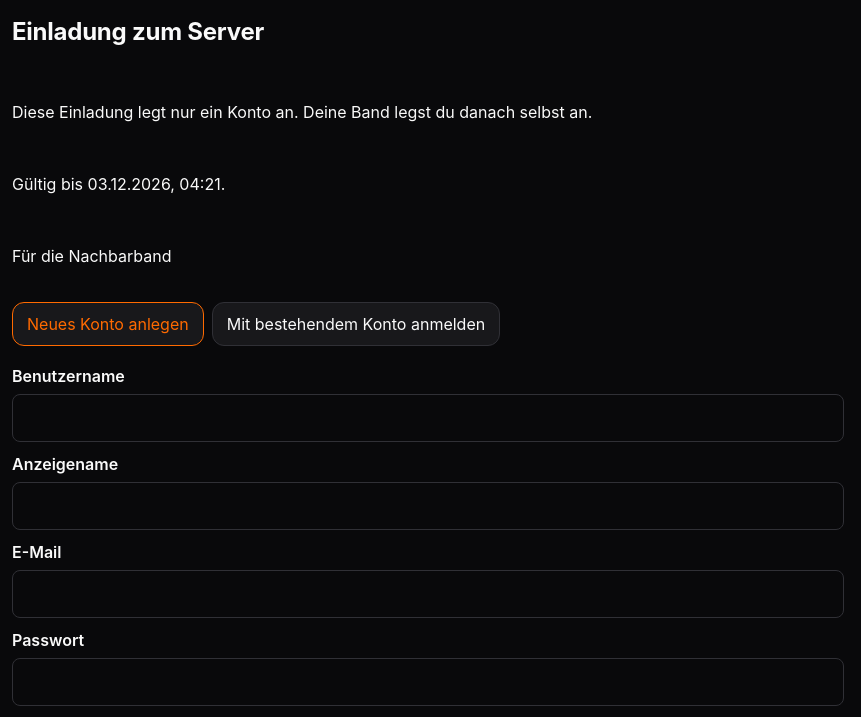
Test: BeitrittAnsicht › zeigt abweichende Passwörter ohne Aufruf
Expected: the heading "Einladung zum Server" is shown, [12,17,264,46]
Type "neu" into the field labelled "Benutzername" at (428, 418), box [12,394,844,442]
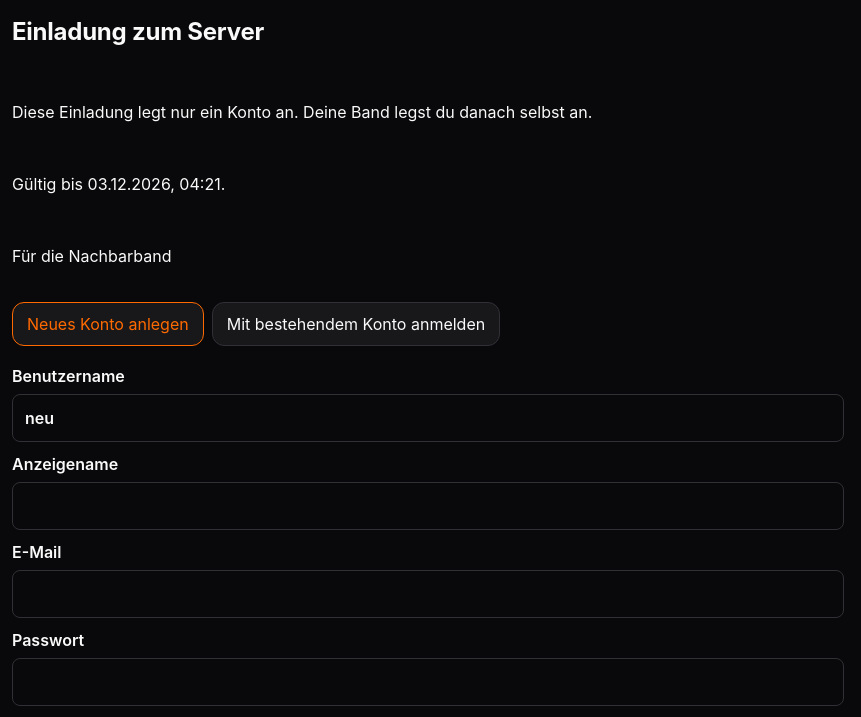
Type "neu@example.test" into the field labelled "E-Mail" at (428, 594), box [12,570,844,618]
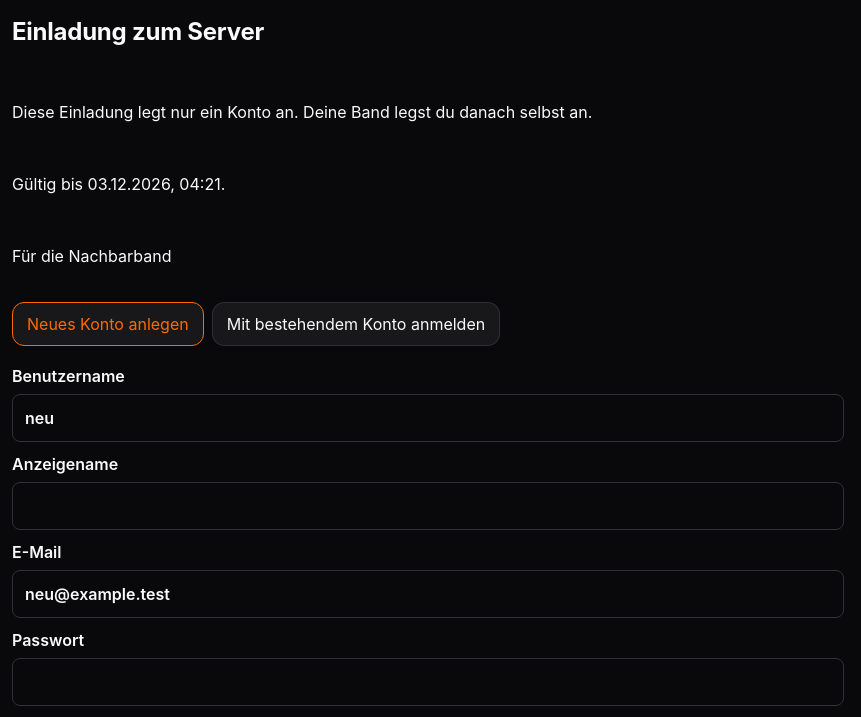
Type "eins-123456" into the password field labelled "Passwort" at (428, 682), box [12,658,844,706]
(page scrolled)
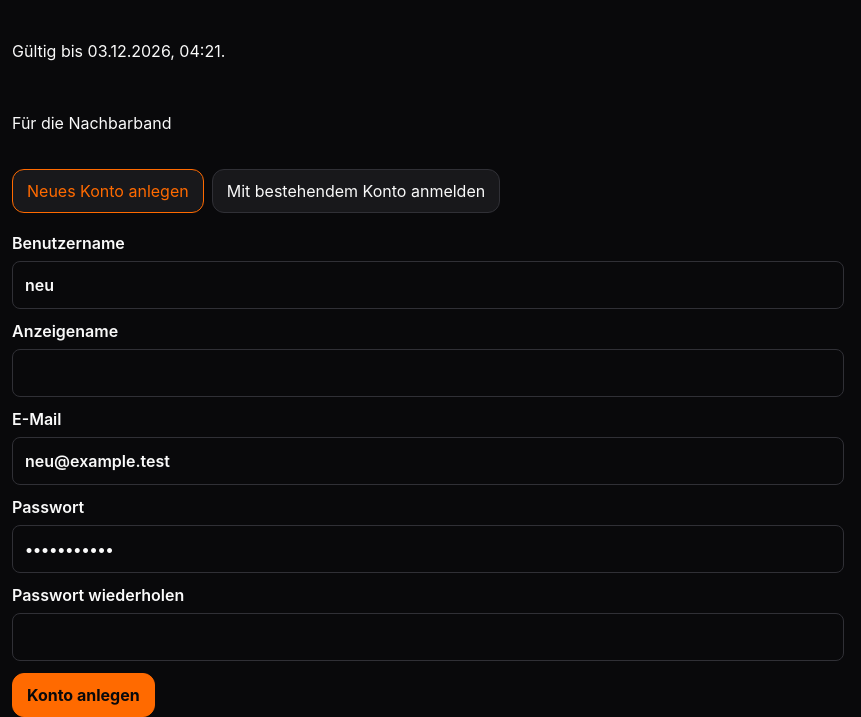
Type "zwei-123456" into the password field labelled "Passwort wiederholen" at (428, 637), box [12,613,844,661]
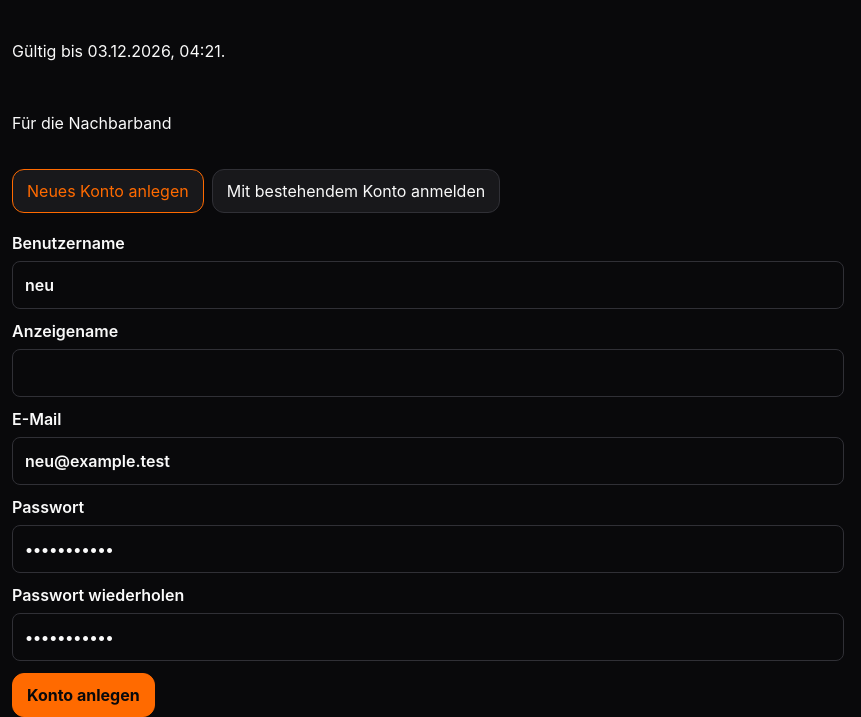
Click the button "Konto anlegen" at (83, 695), box [12,673,155,716]
(page scrolled)
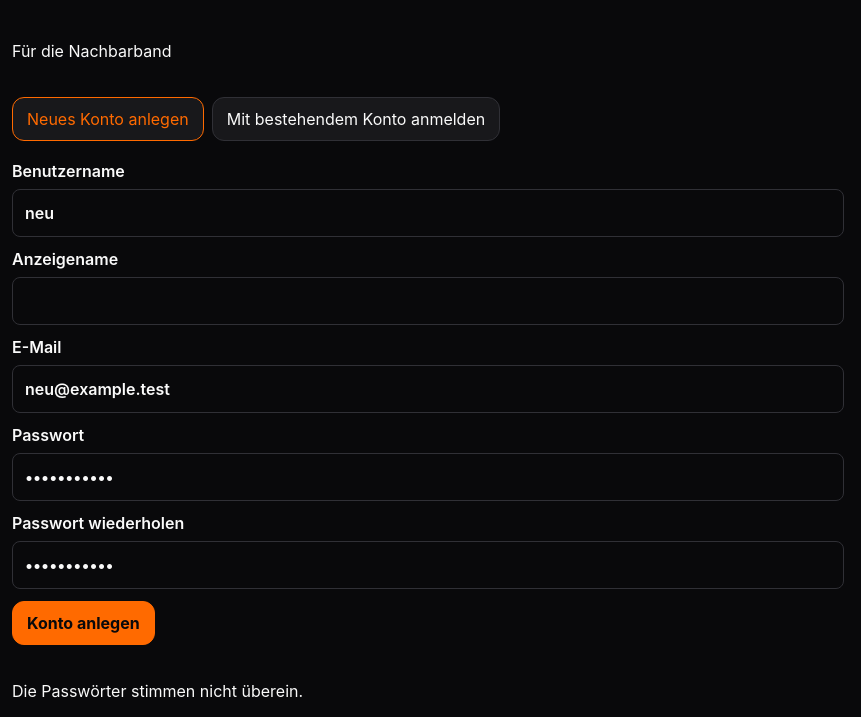
Now the text "Die Passwörter stimmen nicht überein." is shown, box [12,681,303,701]
